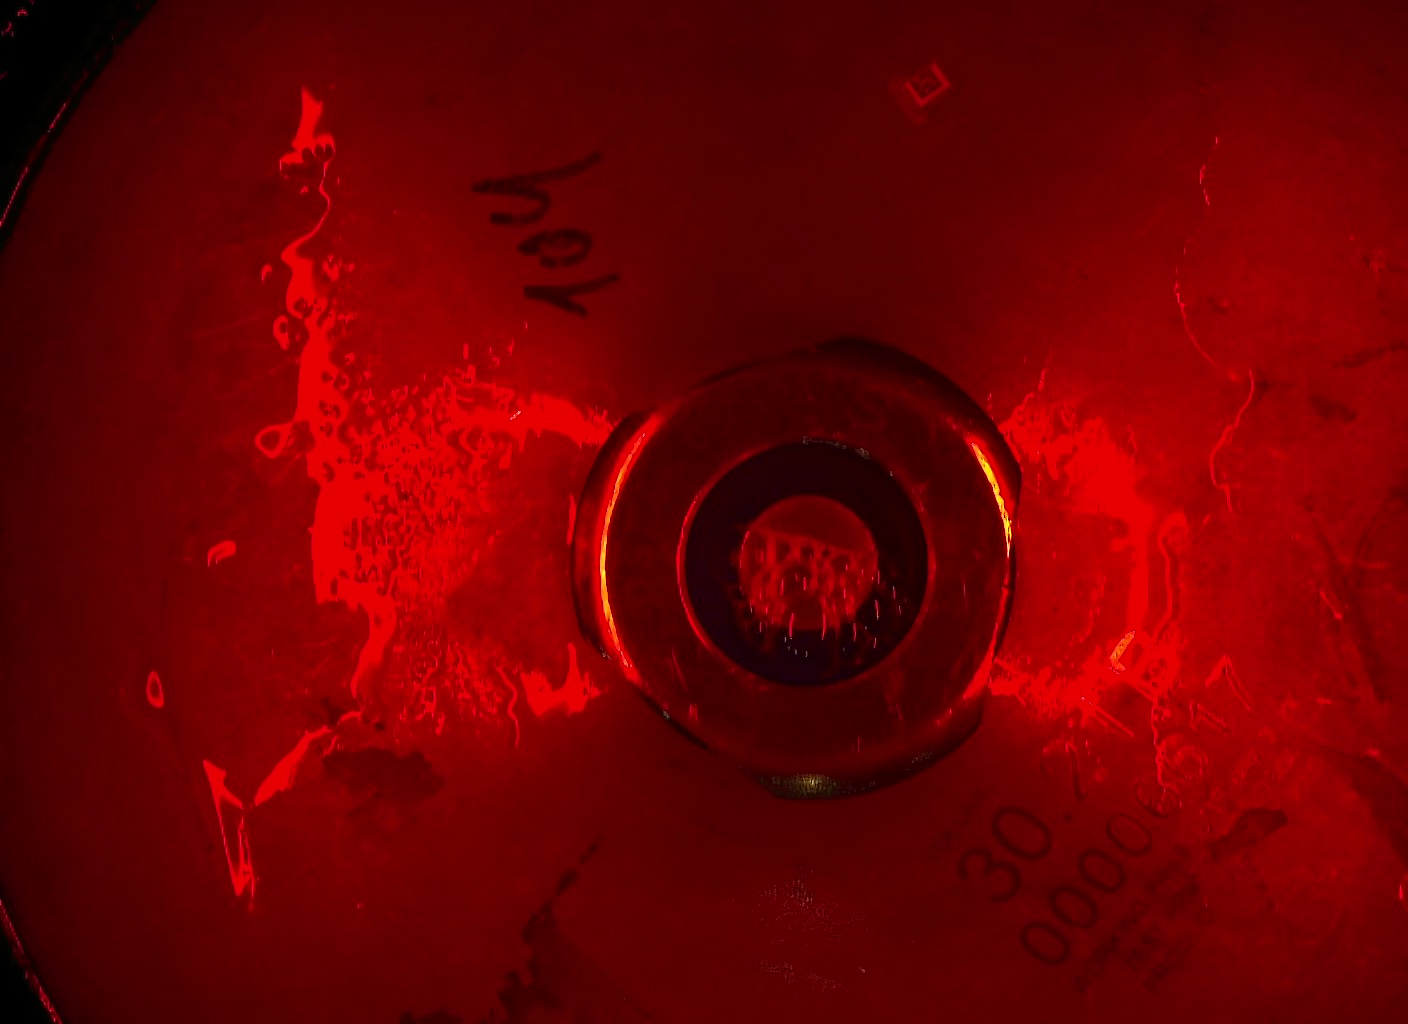pena: (709, 516, 919, 680)
